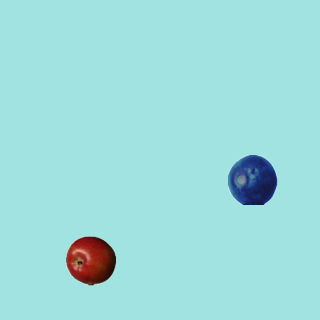Apple Braeburn: (65, 235, 115, 285)
Huckleberry: (227, 154, 277, 204)
